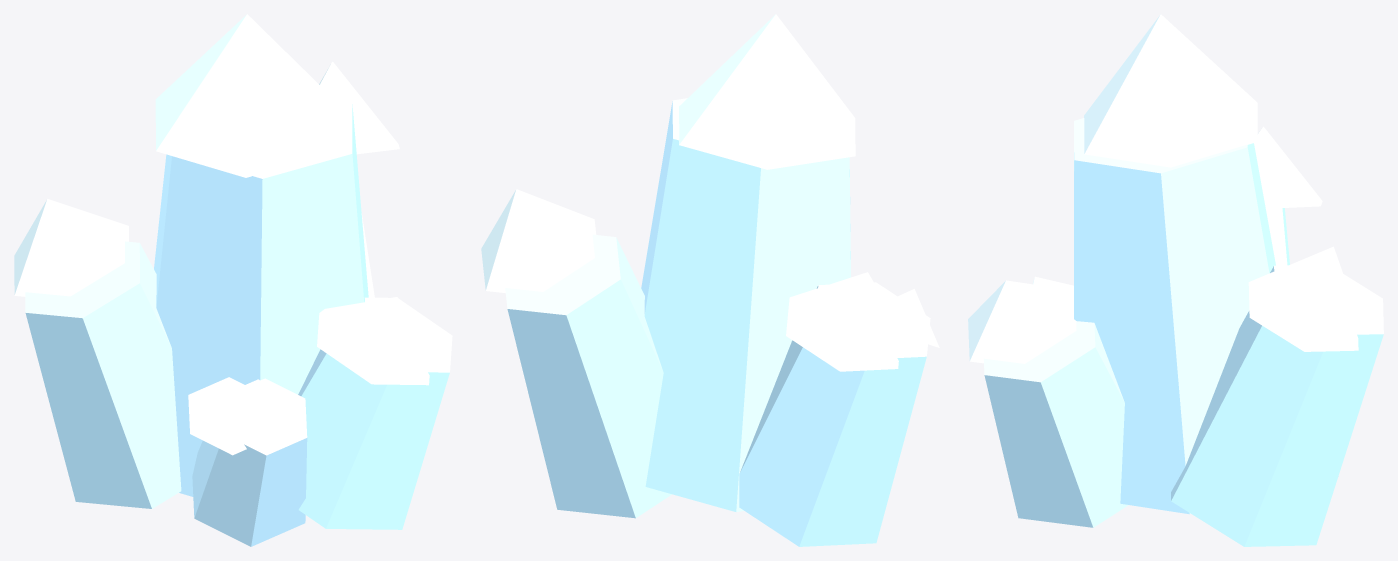
File: obj_ice.glb
3 views of the same model, side by side, from view 1: azimuth 30°, elevation 25°; view 2: azimuth 150°, elevation 25°; view 3: azimuth 270°, elevation 25° (orthographic). The views are drawn at different scales.
Visible parts, largest first — view 1: obj_ice; view 2: obj_ice; view 3: obj_ice.
Part boxes in pixels (box(x1,y1,x2,y2)): obj_ice: box(14, 14, 452, 546); obj_ice: box(481, 14, 939, 546); obj_ice: box(968, 14, 1383, 546).
Bounding box in the file's own units: 1.03 × 1.15 × 0.931.
